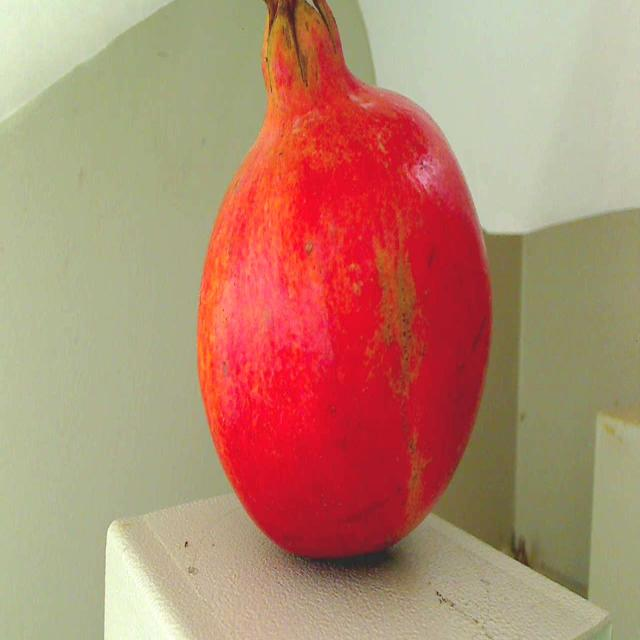pomegranate: (182, 0, 513, 581)
